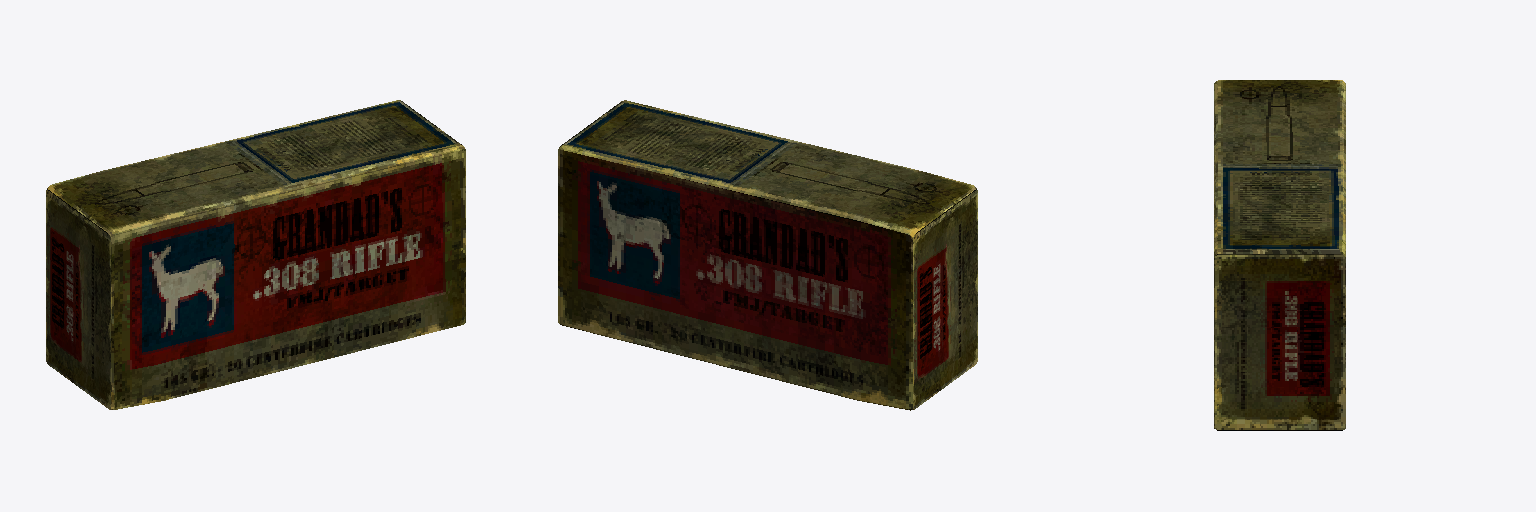
3 views of the same model, side by side, from view 1: azimuth 30°, elevation 25°; view 2: azimuth 150°, elevation 25°; view 3: azimuth 270°, elevation 25° (orthographic).
Visible parts, largest first — view 1: 3006rr_ammo; view 2: 3006rr_ammo; view 3: 3006rr_ammo.
Part boxes in pixels (bbox=[...]): 3006rr_ammo: bbox=[46, 100, 465, 409]; 3006rr_ammo: bbox=[558, 100, 977, 410]; 3006rr_ammo: bbox=[1214, 80, 1345, 430].
Size of the model in its own units: 19.24 by 9.56 by 6.21.
Materials: 1 (1 with a texture image).